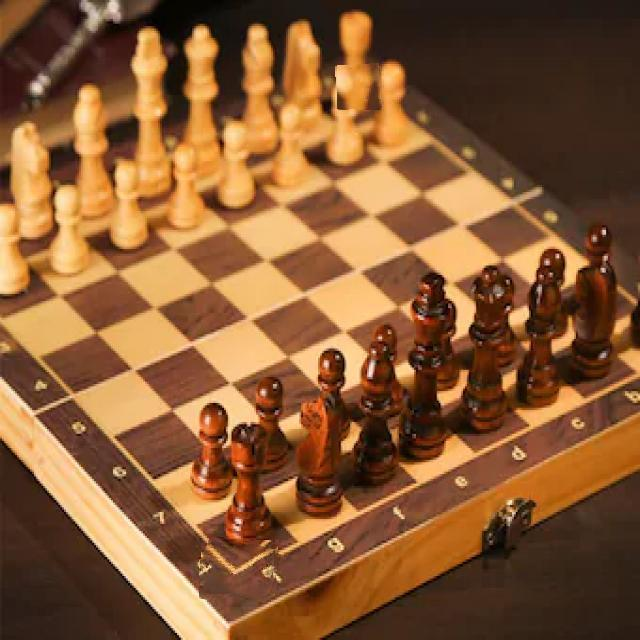chess-table-corners: (199, 539, 279, 599), (336, 64, 382, 110)
